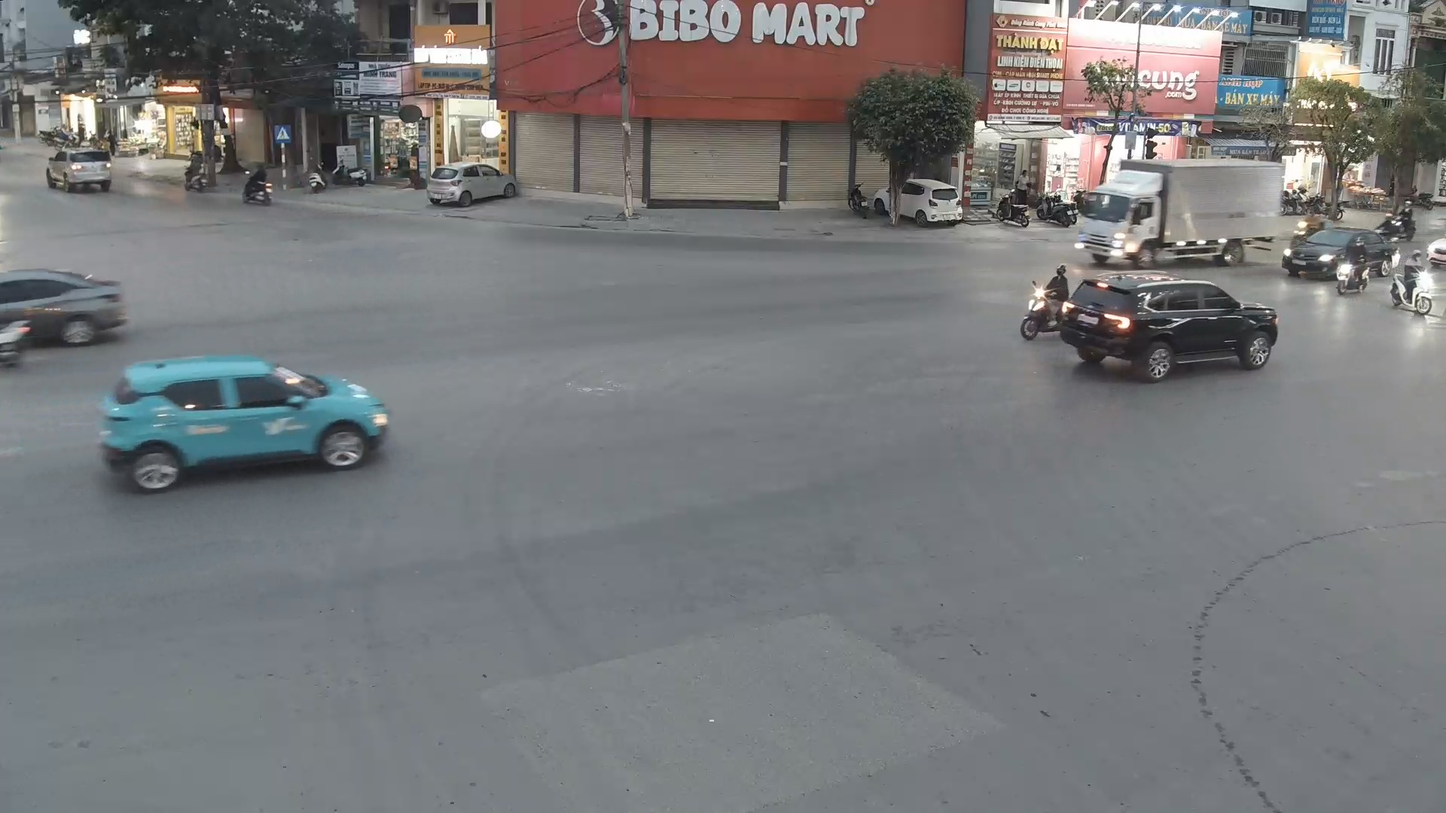car: (95, 355, 392, 491), (1062, 272, 1281, 382), (0, 266, 131, 363), (426, 160, 521, 211), (45, 142, 115, 194)
motorbike: (1017, 262, 1079, 343), (1384, 246, 1435, 319)
